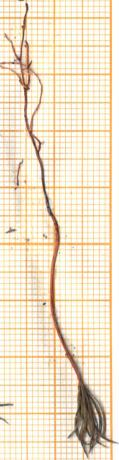flower: (55, 383, 114, 460)
root: (0, 0, 65, 226)
stem: (45, 228, 101, 383)
